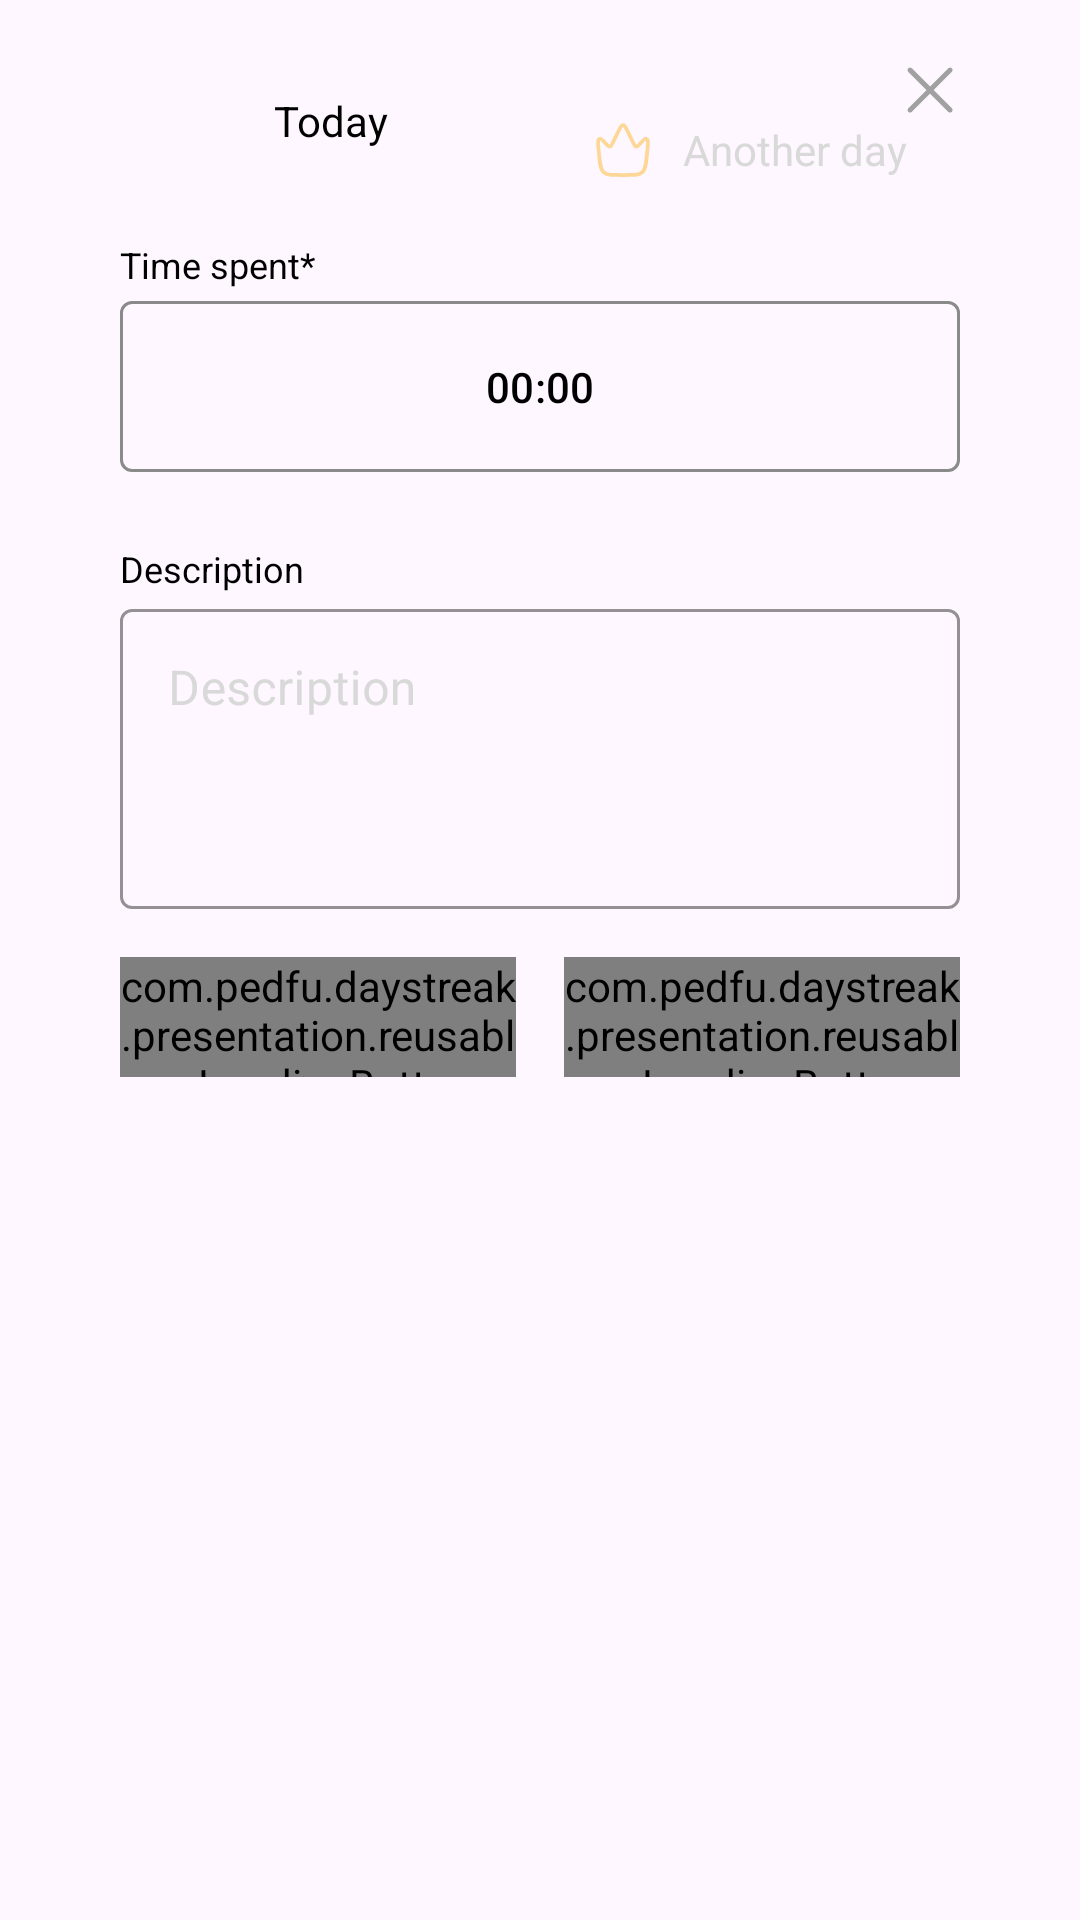

Icon bounding boxes for this 1080px x 1920px phone screenshot, format (x1, y1, x2, y2):
close: (907, 67, 953, 113)
crown: (596, 123, 650, 177)
